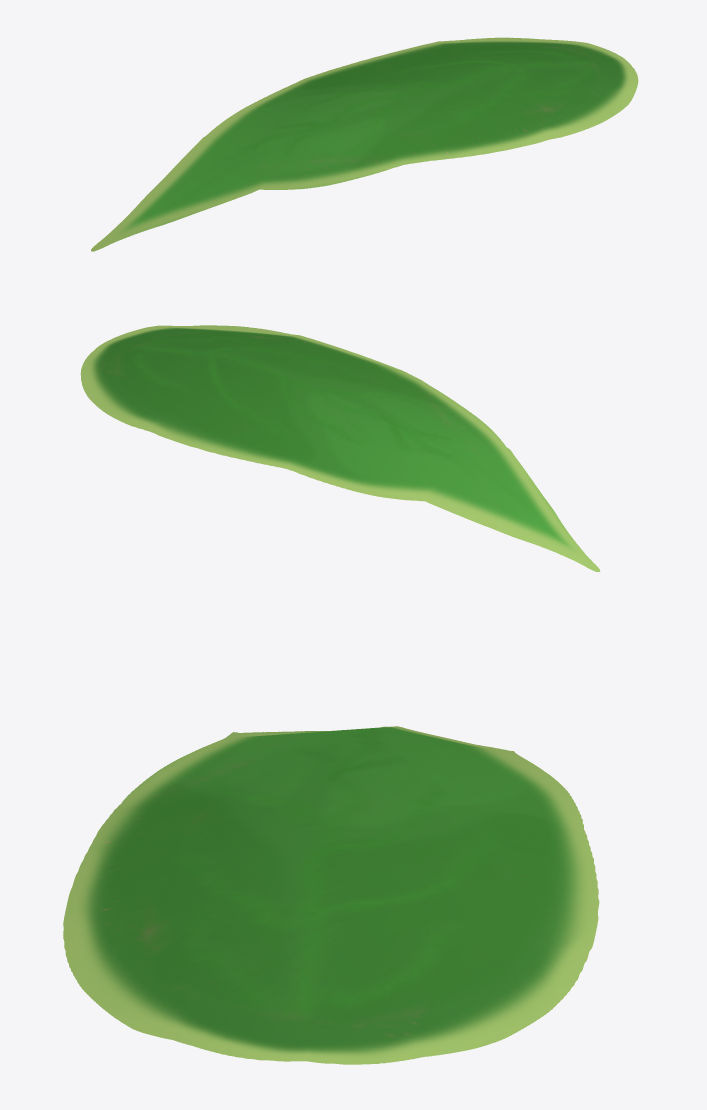
File: HojaBasica1.fbx
3 views of the same model, one above another, from view 1: azimuth 30°, elevation 25°; view 2: azimuth 150°, elevation 25°; view 3: azimuth 270°, elevation 25° (orthographic). The views are drawn at different scales.
Parts seen in each view (by area): view 1: HojaBasica1; view 2: HojaBasica1; view 3: HojaBasica1.
Boxes of the visible parts, box(x1,y1,x2,y2) form: HojaBasica1: box(91, 37, 638, 251); HojaBasica1: box(80, 325, 600, 571); HojaBasica1: box(63, 726, 599, 1064).
Bounding box in the file's own units: 434 × 80.51 × 217.
1 material, 1 textured.
